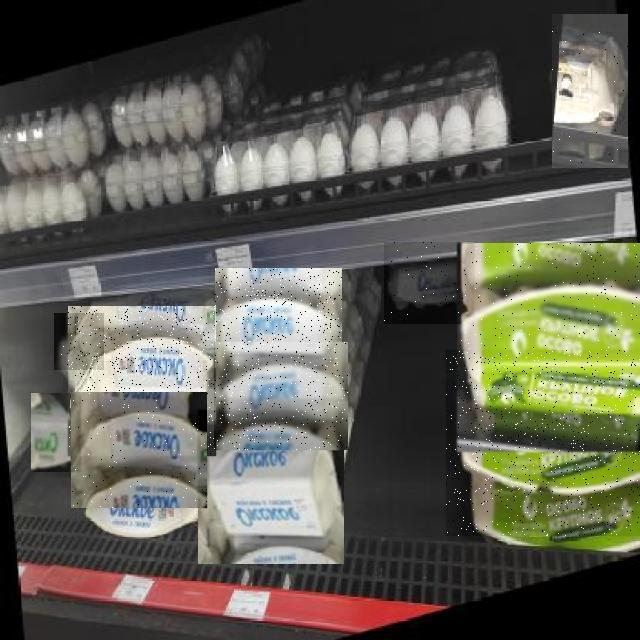Eggs: (457, 243, 640, 452), (446, 350, 640, 536), (198, 410, 344, 564), (69, 306, 217, 456), (215, 268, 342, 398), (71, 392, 207, 508), (214, 342, 348, 450), (108, 75, 209, 206), (369, 68, 507, 160), (552, 15, 628, 169), (1, 121, 102, 231), (234, 96, 345, 186), (384, 242, 474, 324), (31, 393, 81, 472), (54, 313, 104, 370)
